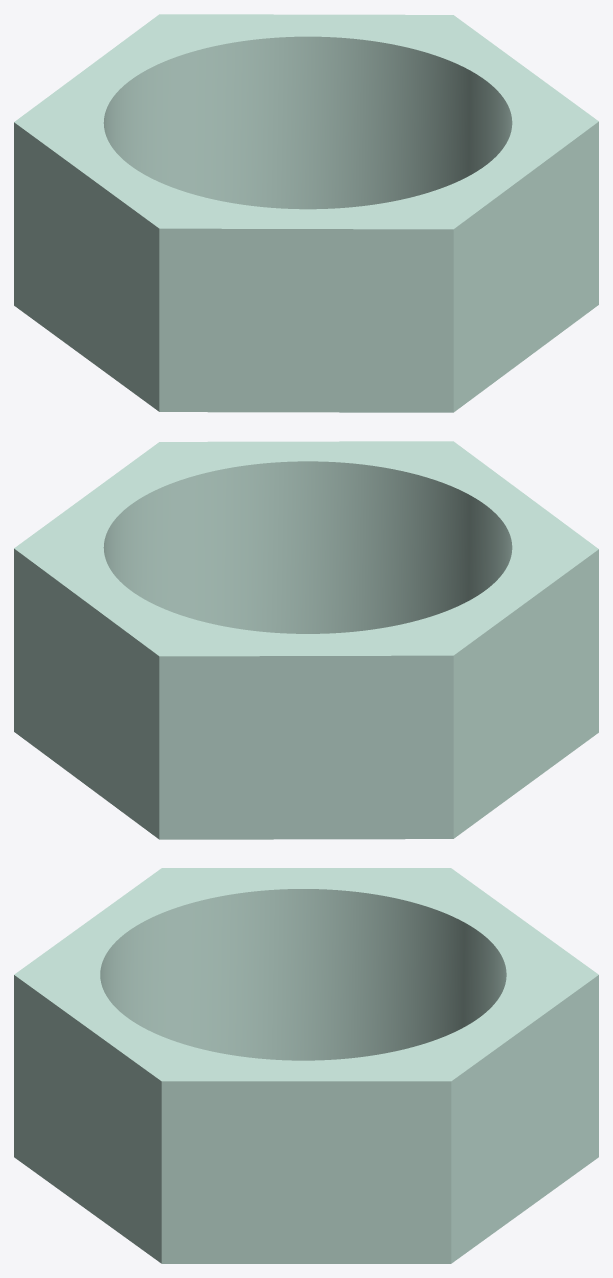
The picture shows the model from 3 angles, top to bottom: view 1: azimuth 30°, elevation 25°; view 2: azimuth 150°, elevation 25°; view 3: azimuth 270°, elevation 25°; orthographic projection.
Parts seen in each view (by area): view 1: Renderer Node; view 2: Renderer Node; view 3: Renderer Node.
Part boxes in pixels (left/top/right/bottom): Renderer Node: left=14, top=14, right=598, bottom=412; Renderer Node: left=14, top=441, right=598, bottom=839; Renderer Node: left=14, top=868, right=598, bottom=1263.
Bounding box in the file's own units: 0.6271 × 0.25 × 0.7266.
